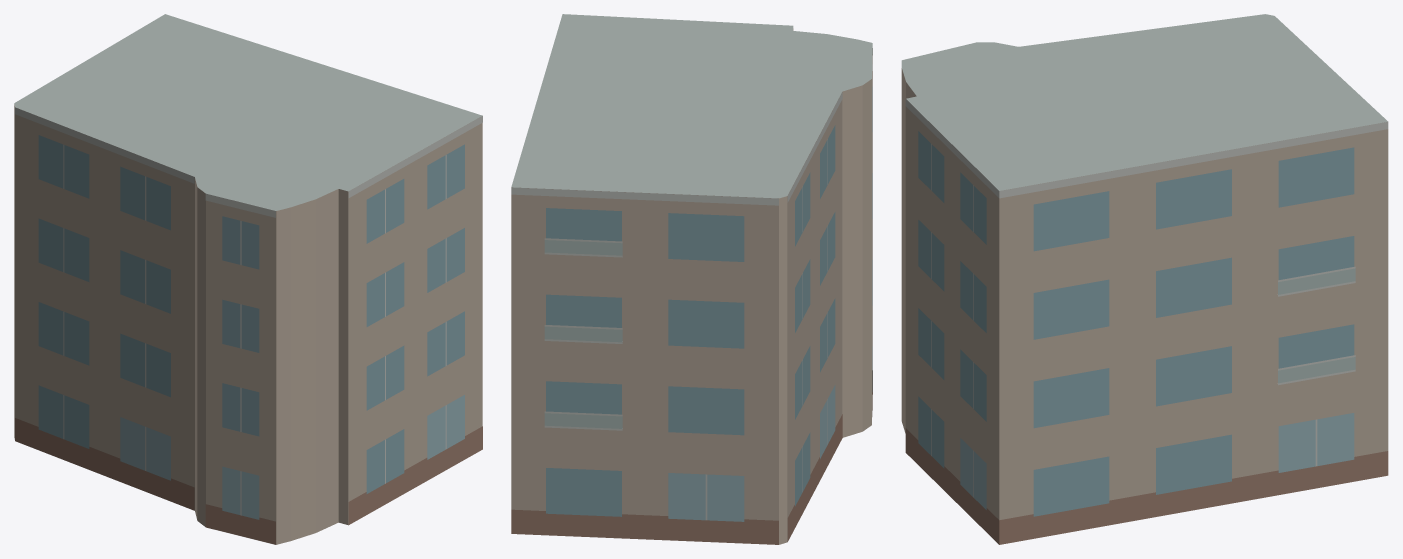
File: survey-upis-32583176.glb
3 renders of one model, left to right at view 1: azimuth 30°, elevation 25°; view 2: azimuth 150°, elevation 25°; view 3: azimuth 270°, elevation 25°, orthographic. The views are drawn at different scales.
Parts seen in each view (by area): view 1: survey-upis-32583176.tmp; view 2: survey-upis-32583176.tmp; view 3: survey-upis-32583176.tmp.
Part boxes in pixels (x1,y1,x2,y2): survey-upis-32583176.tmp: (14,14,482,544); survey-upis-32583176.tmp: (511,14,872,544); survey-upis-32583176.tmp: (901,14,1388,544).
Bounding box in the file's own units: 12.56 × 11.7 × 14.6.
